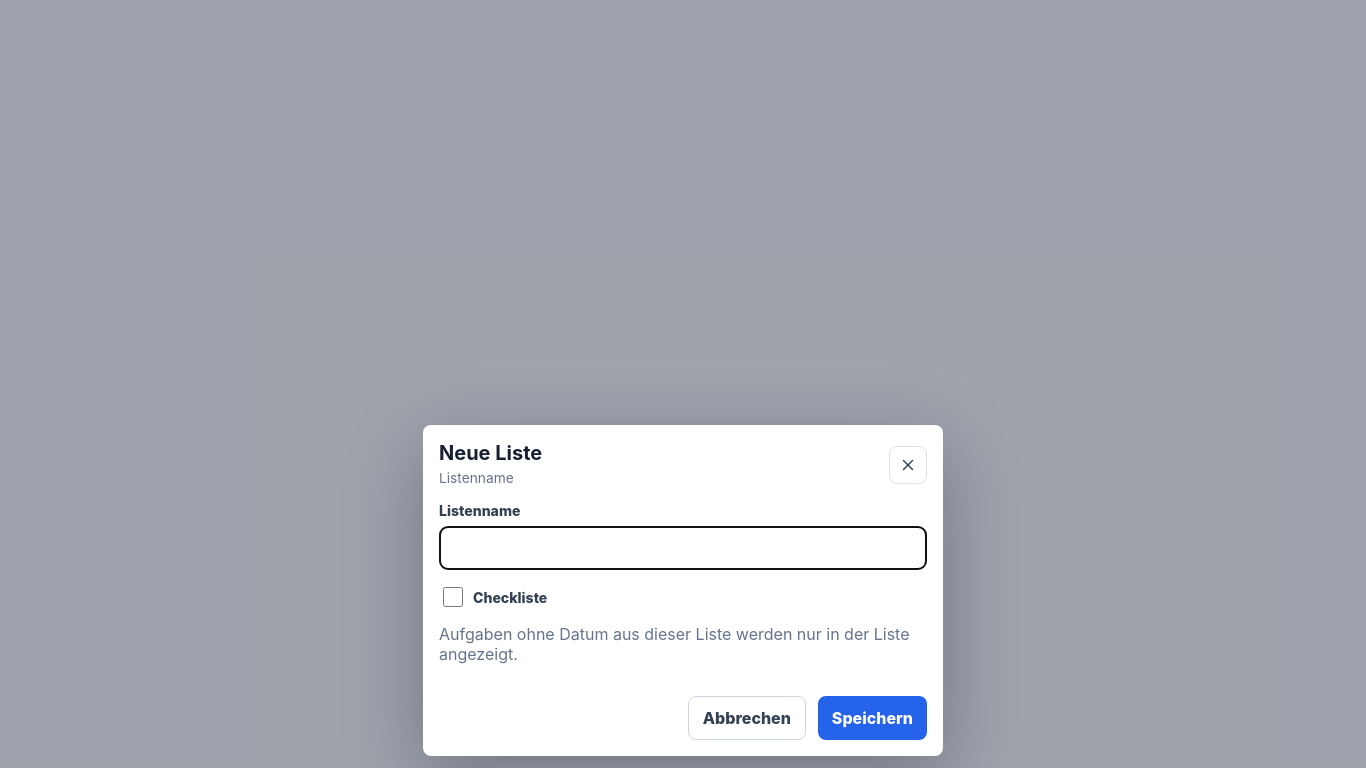
Test: ListFormSheet › validates that a list name is required
The image size is (1366, 768).
Click the button "Speichern": [872, 718] box [818, 696, 927, 740]
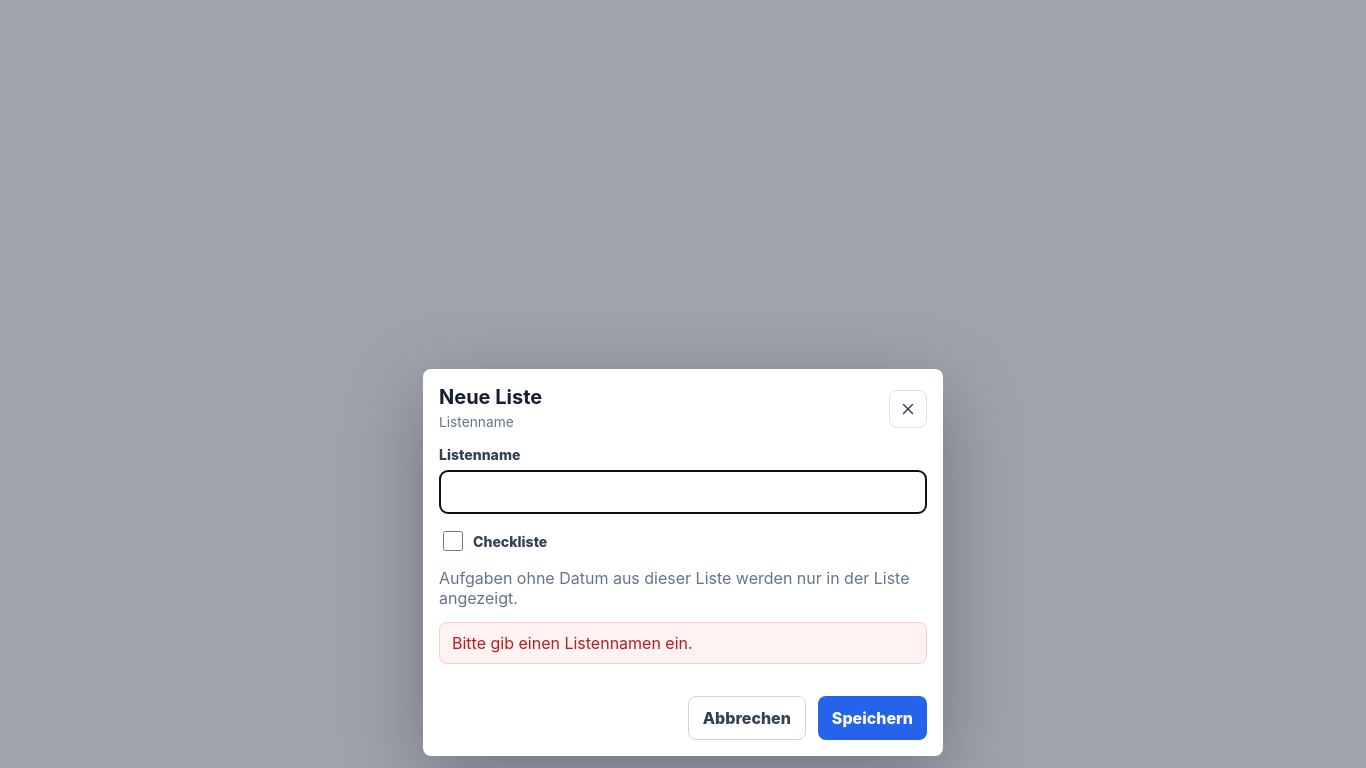
expect the message reads "Bitte gib einen Listennamen ein.": met, box [452, 633, 693, 653]
